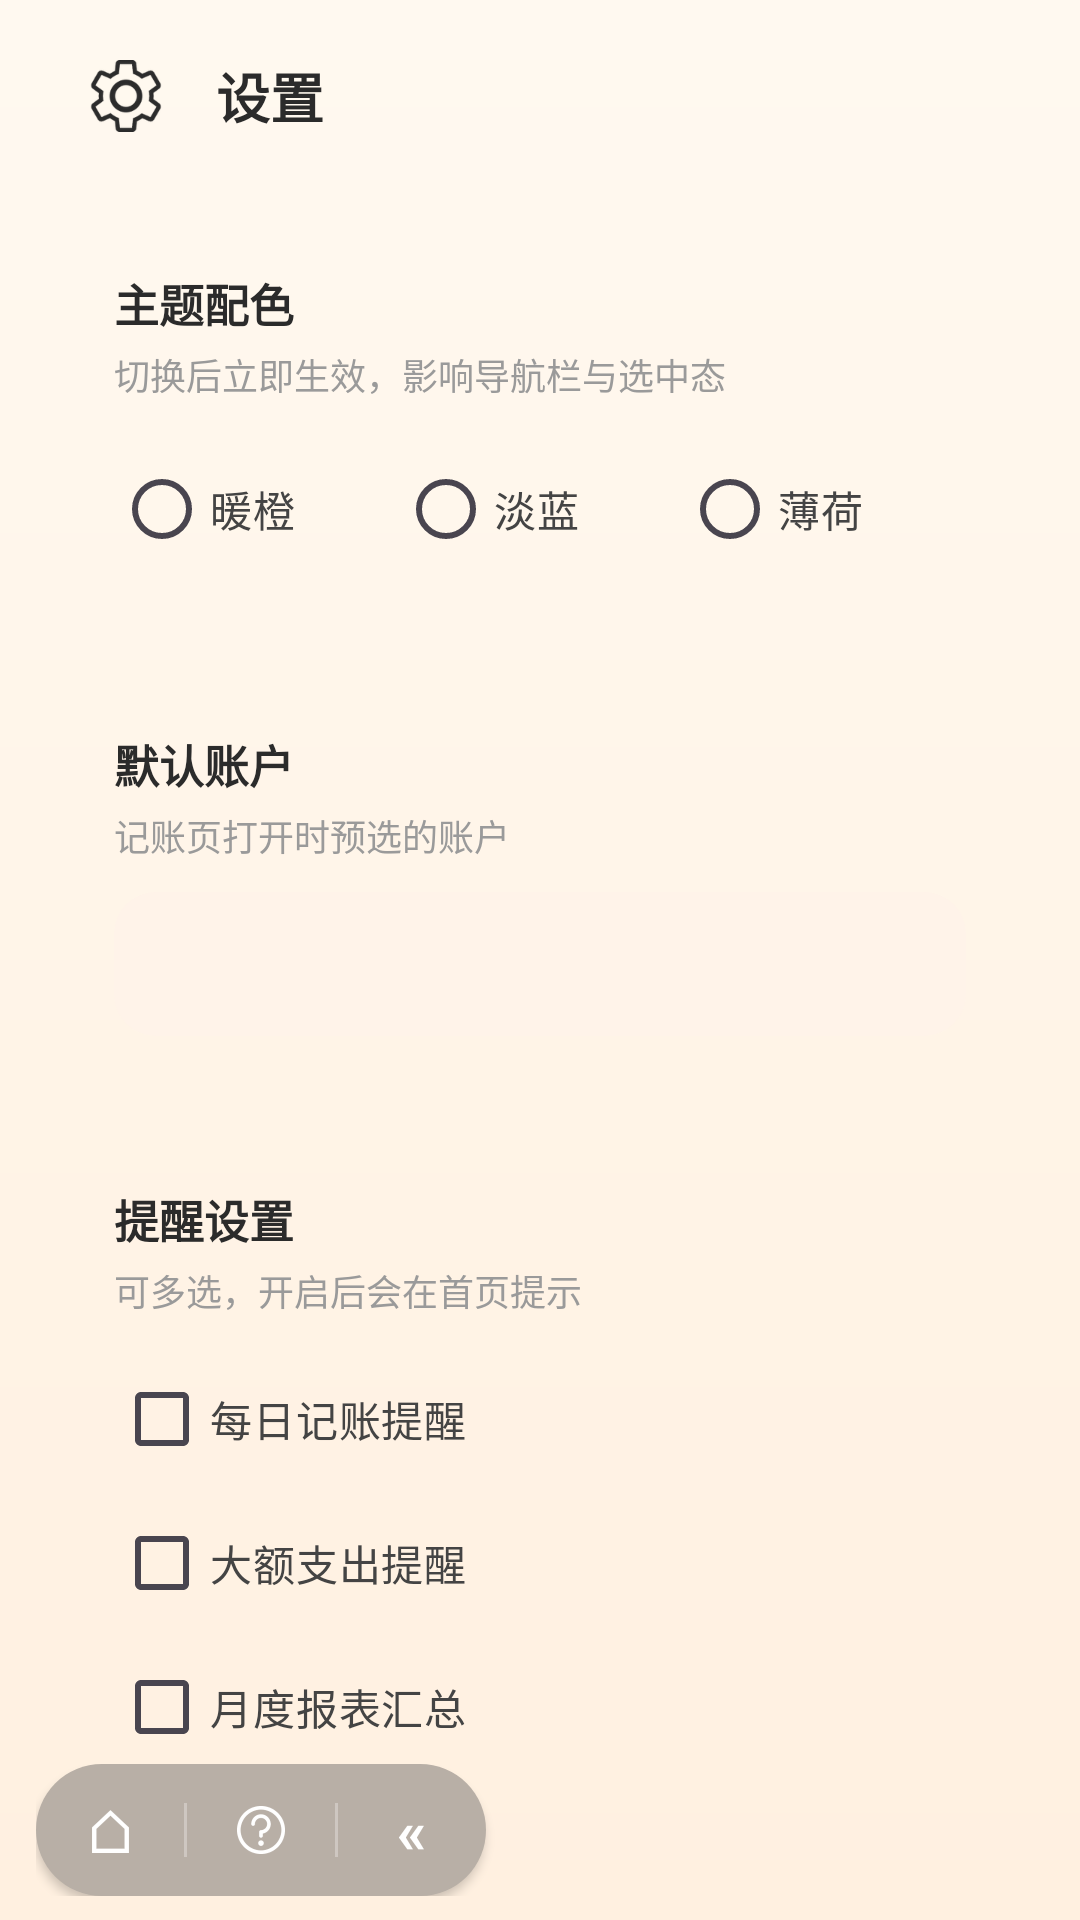

Icon bounding boxes for this 1080 × 1920 phone screenshot, format box=[x1, y1, x2, y2]:
帮助: box=[237, 1806, 285, 1854]
